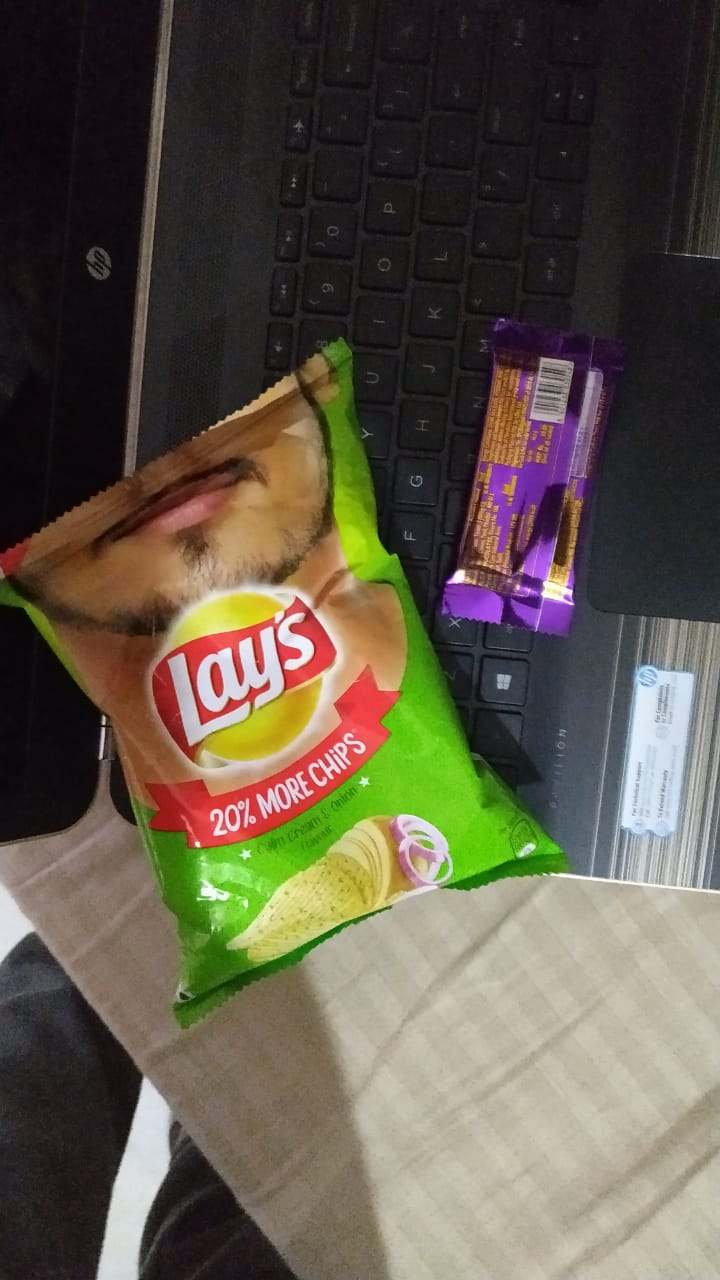dairy milk: (456, 319, 599, 649)
lays chips: (1, 346, 562, 1035)
